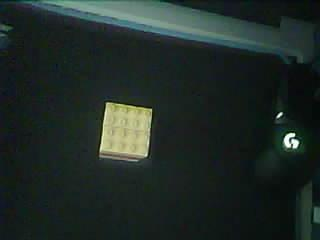lego: (99, 102, 153, 162)
